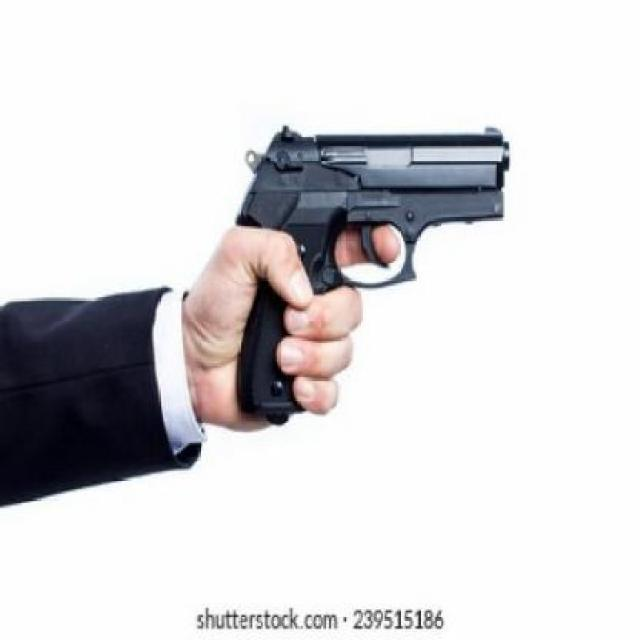gun: (232, 123, 508, 420)
